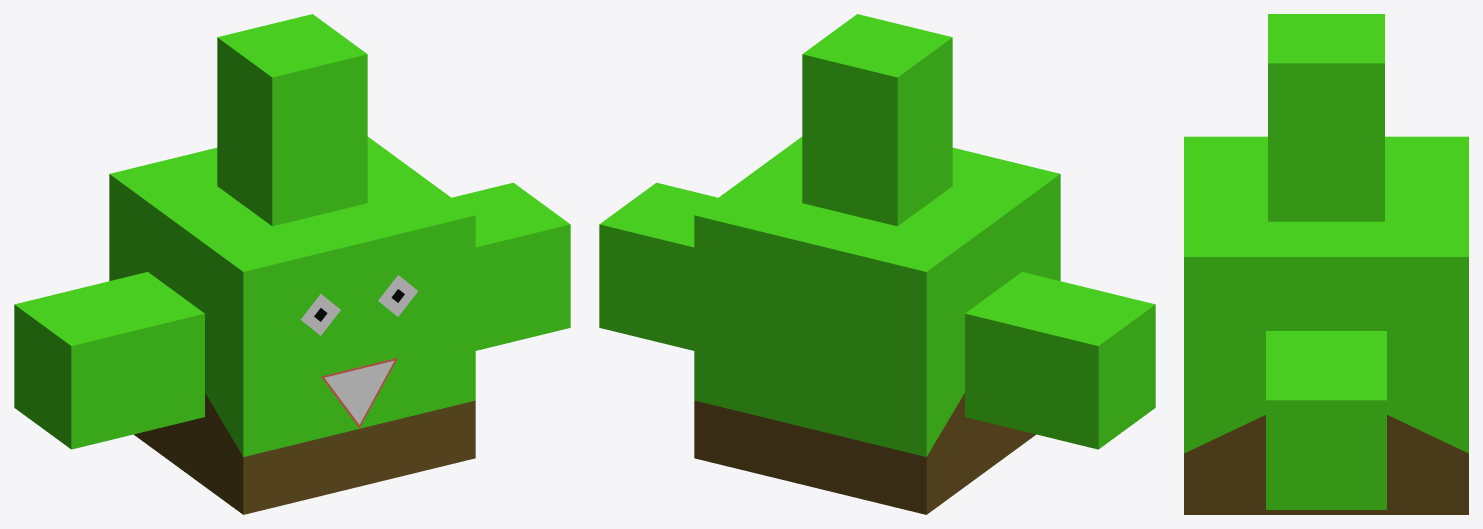
Rendered from kloc.glb.
3 views of the same model, side by side, from view 1: azimuth 30°, elevation 25°; view 2: azimuth 150°, elevation 25°; view 3: azimuth 270°, elevation 25° (orthographic). The views are drawn at different scales.
Parts seen in each view (by area): view 1: Cube; view 2: Cube; view 3: Cube.
Boxes of the visible parts, x1,y1,x2,y2 form: Cube: [14, 14, 570, 514]; Cube: [599, 14, 1155, 514]; Cube: [1184, 14, 1468, 514].
Bounding box in the file's own units: 4.3 × 3.23 × 2.
